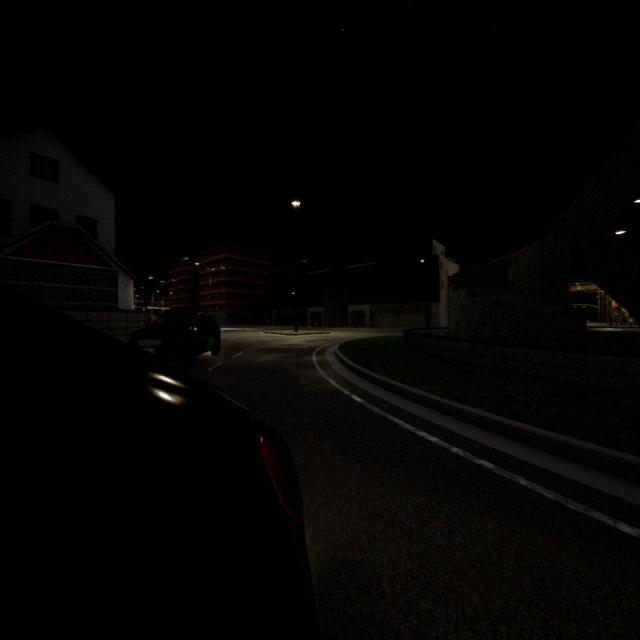Vehicle: (0, 292, 305, 640), (128, 310, 221, 367)
